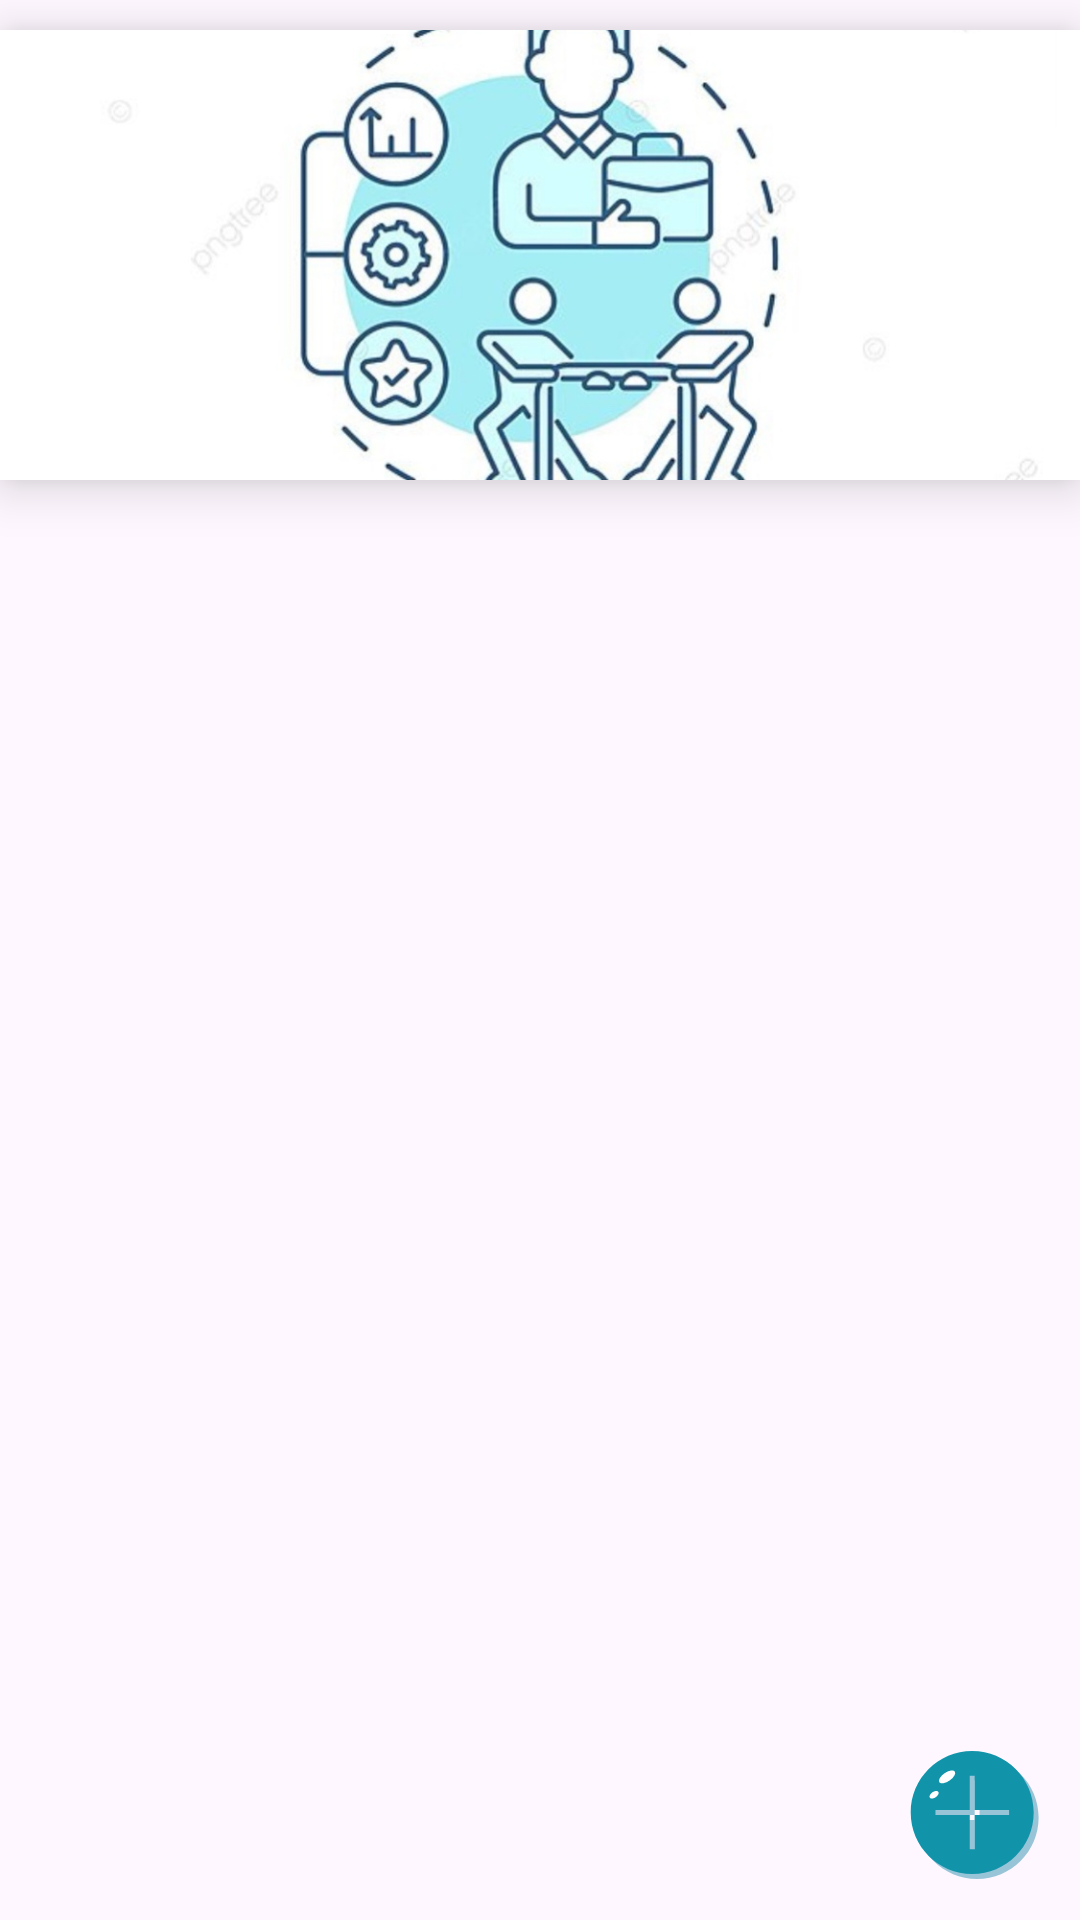

Where icons sit on this 1080 × 1920 app screen, as [x1, y1, x2, y2]:
add to: [910, 1751, 1039, 1879]
